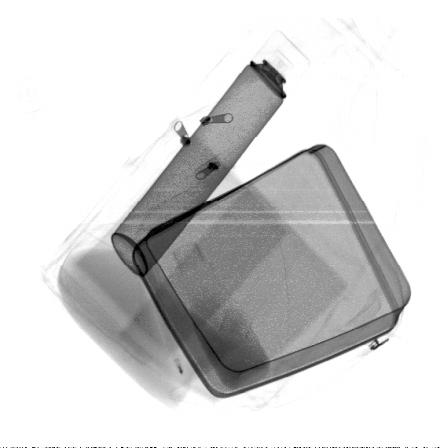Sprayer: (111, 28, 311, 278)
